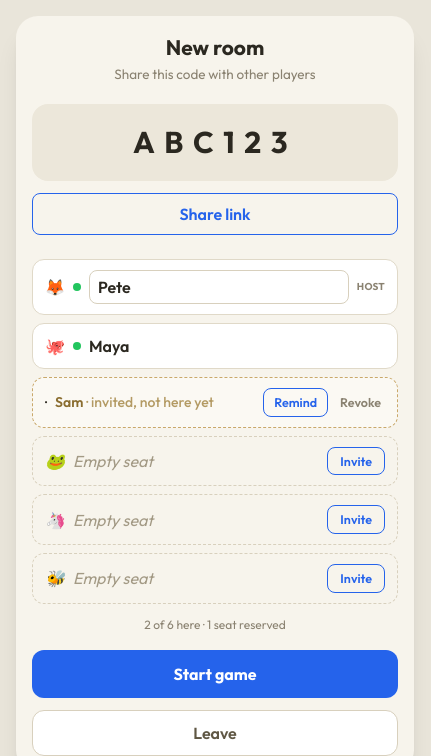
Test case: the reserved seat row › shows the name, no presence dot, Remind, and a two-tap Revoke for the host
This screenshot has width=431, height=756.
Expected: the text "Sam" is shown, [55,393,83,411]
Expected: the text "· invited, not here yet" is shown, [83,393,214,411]
// Revoke asks twice: the first tap arms, the second fires.
Click the button "Revoke": (361, 402) [336,389,385,416]
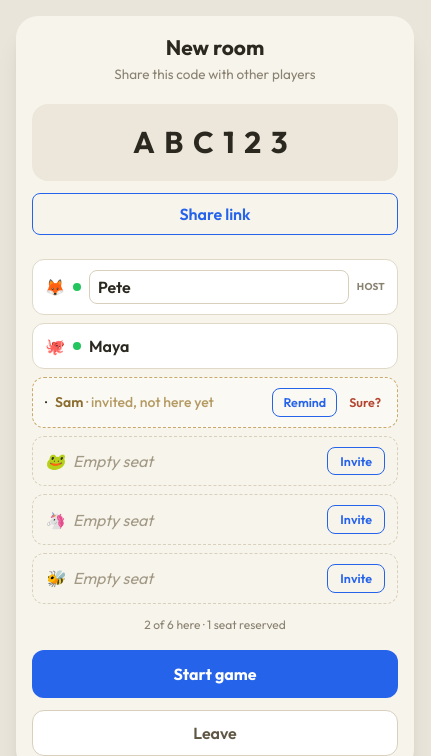
Click the button "Sure?": (365, 402) [345,389,385,416]
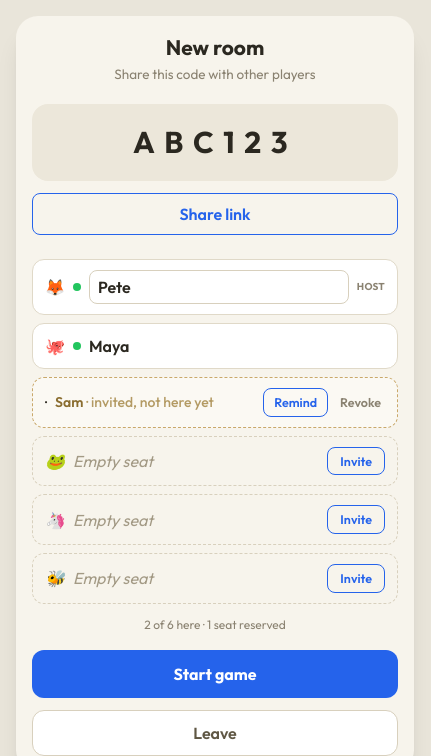
Click the button "Remind": (296, 402) [263,388,328,417]
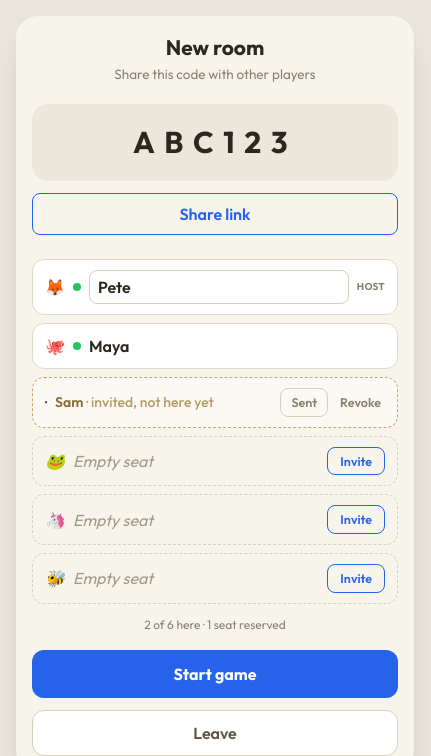
Result: the button "Sent" is disabled at [280,388,328,417]
